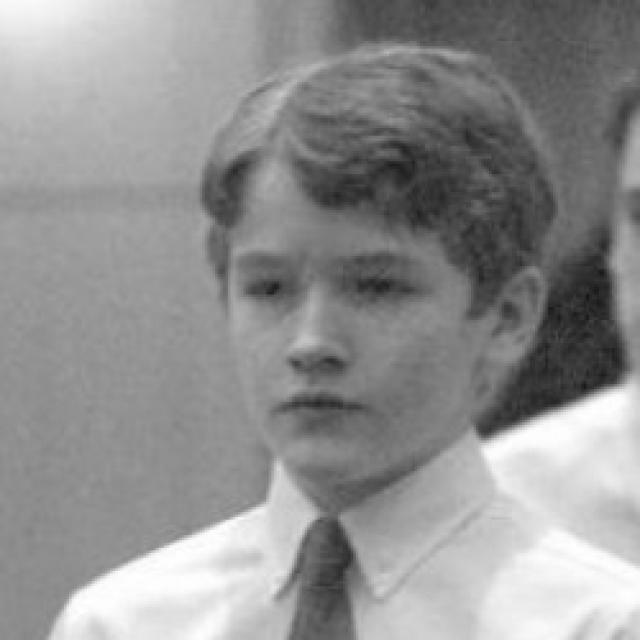real: (202, 80, 534, 492), (234, 256, 439, 311)
